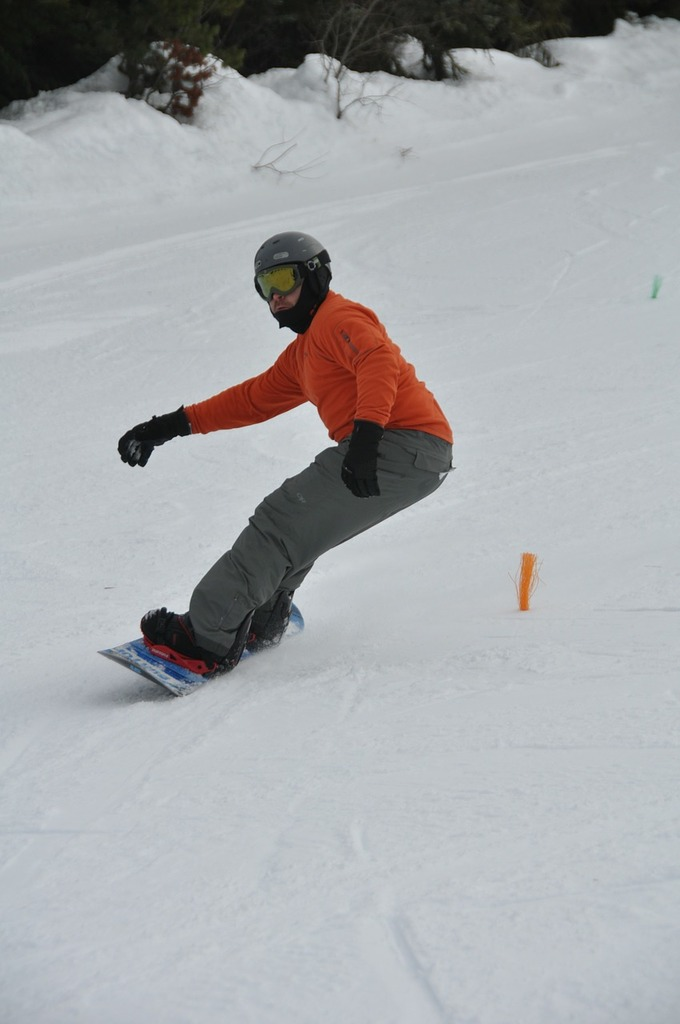snowboarder: (97, 216, 463, 702)
